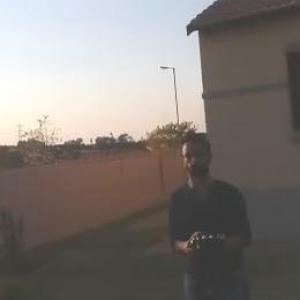follow: (163, 128, 257, 299)
